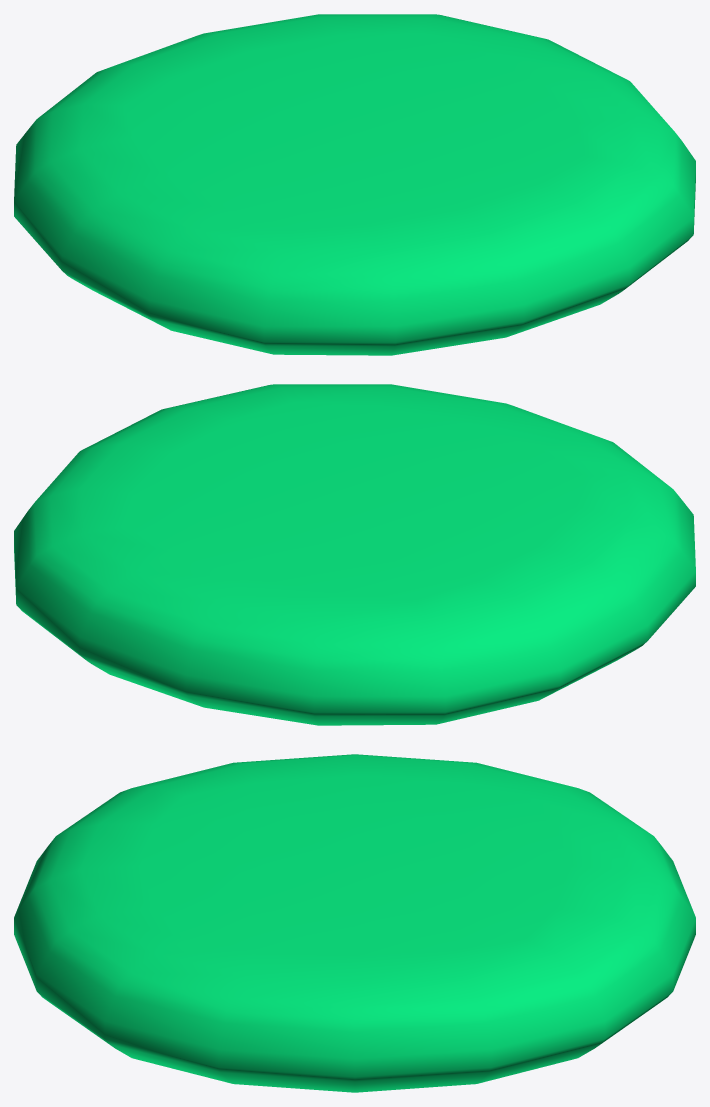
File: CollisionPlataformaRedonda.fbx
3 views of the same model, one above another, from view 1: azimuth 30°, elevation 25°; view 2: azimuth 150°, elevation 25°; view 3: azimuth 270°, elevation 25° (orthographic).
Parts seen in each view (by area): view 1: pCube191; view 2: pCube191; view 3: pCube191.
Part boxes in pixels (left/top/right/bottom): pCube191: left=14, top=14, right=695, bottom=355; pCube191: left=14, top=384, right=695, bottom=725; pCube191: left=14, top=754, right=695, bottom=1092.
Size of the model in its own units: 1038 by 187 by 1038.
